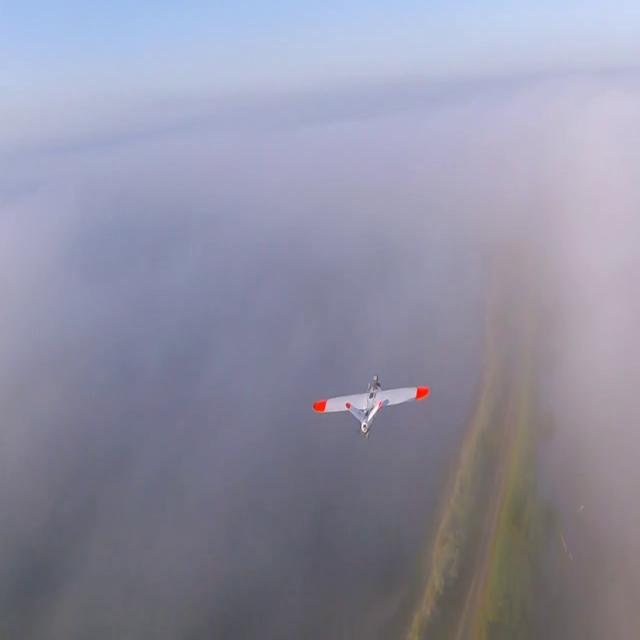iha: (343, 408, 399, 412)
